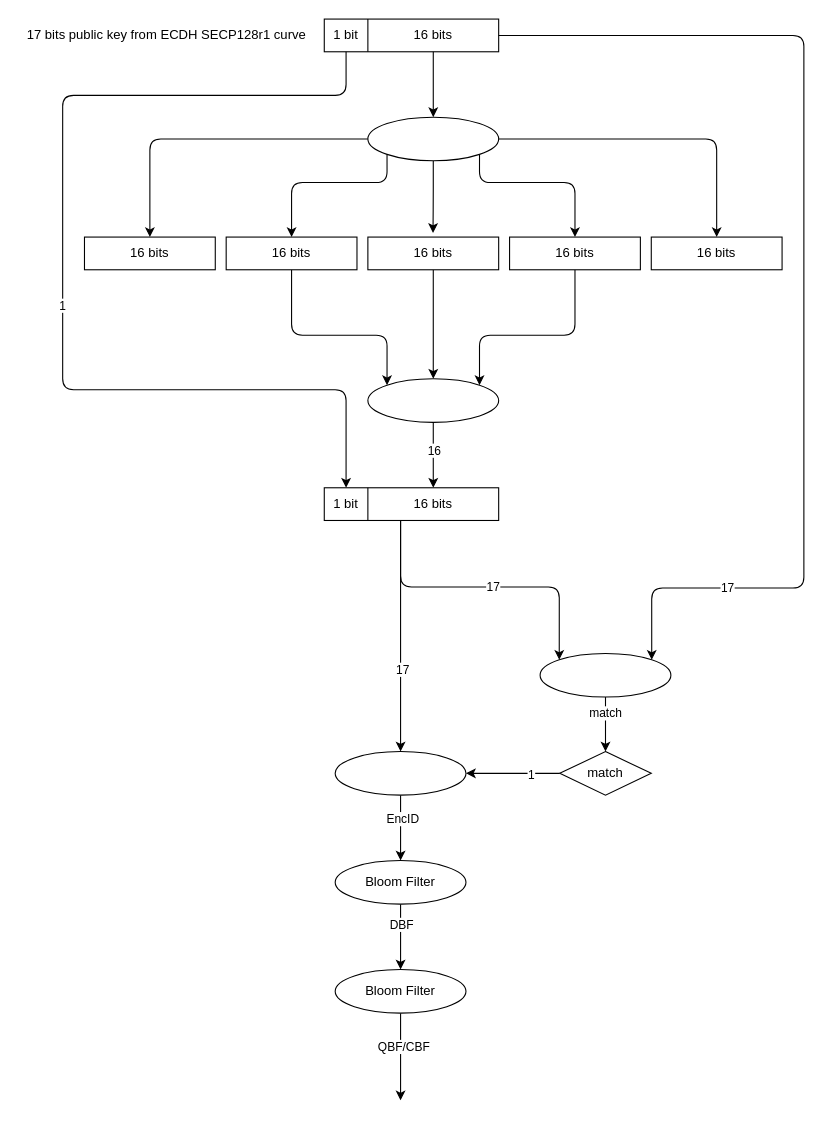
Image size: 832x1128. Some labels were removed from this diagram. The shapes that lost their labels are listed below. From the top down, each one's box as (x1, y1, x2, y2) in pixels, then its label:
(367, 116, 499, 161): Shamir split
(367, 378, 499, 422): Shamir combine
(539, 652, 671, 697): SHA256
(334, 750, 466, 795): ECDH
